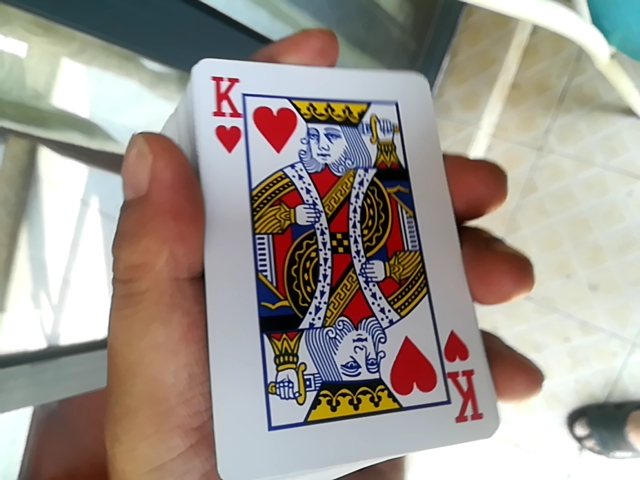hx k: (189, 52, 498, 476)
